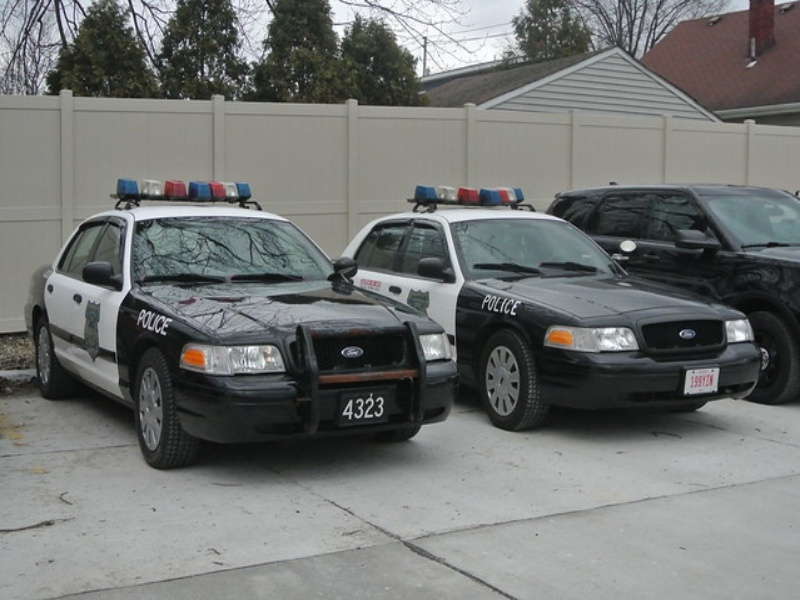policecar: (11, 167, 466, 467), (369, 174, 762, 415)
